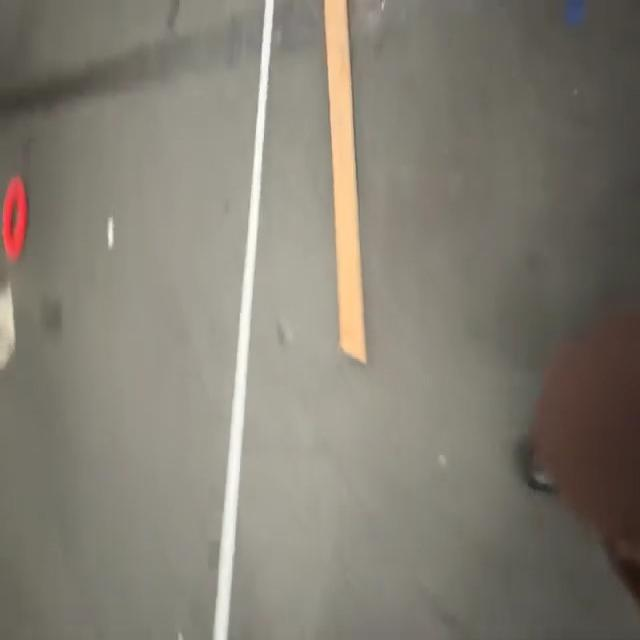note: (0, 168, 31, 263)
